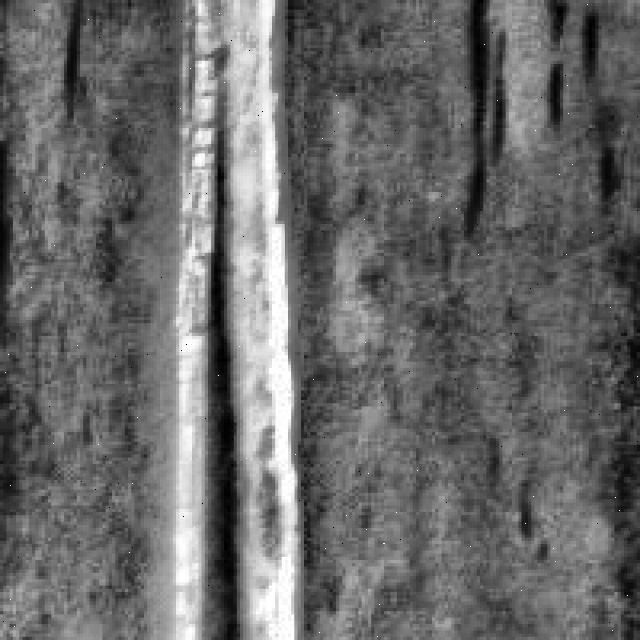Inclusion: (157, 0, 301, 634)
Patches: (458, 0, 512, 224), (540, 0, 596, 122), (54, 0, 90, 83)
